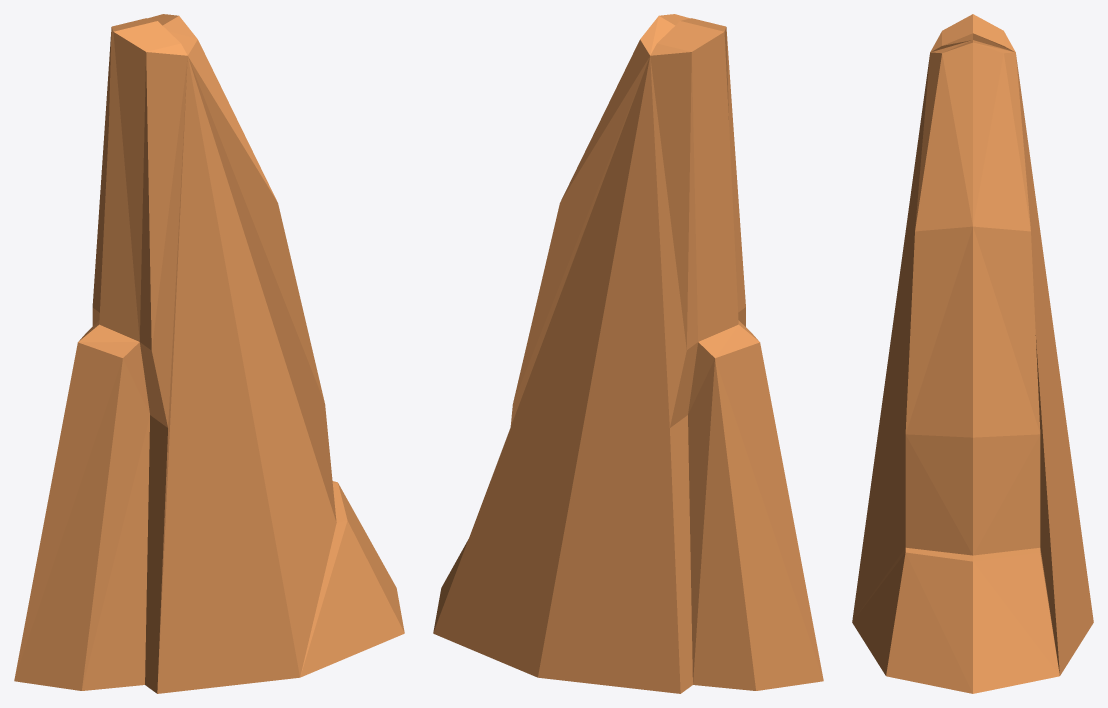
The model's file is Rock_Large_Canyon_Eroded_13.FBX.
3 views of the same model, side by side, from view 1: azimuth 30°, elevation 25°; view 2: azimuth 150°, elevation 25°; view 3: azimuth 270°, elevation 25° (orthographic). The views are drawn at different scales.
Parts seen in each view (by area): view 1: Rock_Large_Canyon_Eroded_13; view 2: Rock_Large_Canyon_Eroded_13; view 3: Rock_Large_Canyon_Eroded_13.
Boxes of the visible parts, bbox=[...] form: Rock_Large_Canyon_Eroded_13: bbox=[14, 14, 404, 693]; Rock_Large_Canyon_Eroded_13: bbox=[433, 14, 823, 693]; Rock_Large_Canyon_Eroded_13: bbox=[852, 14, 1093, 693].
Size of the model in its own units: 7132 by 11140 by 4382.
